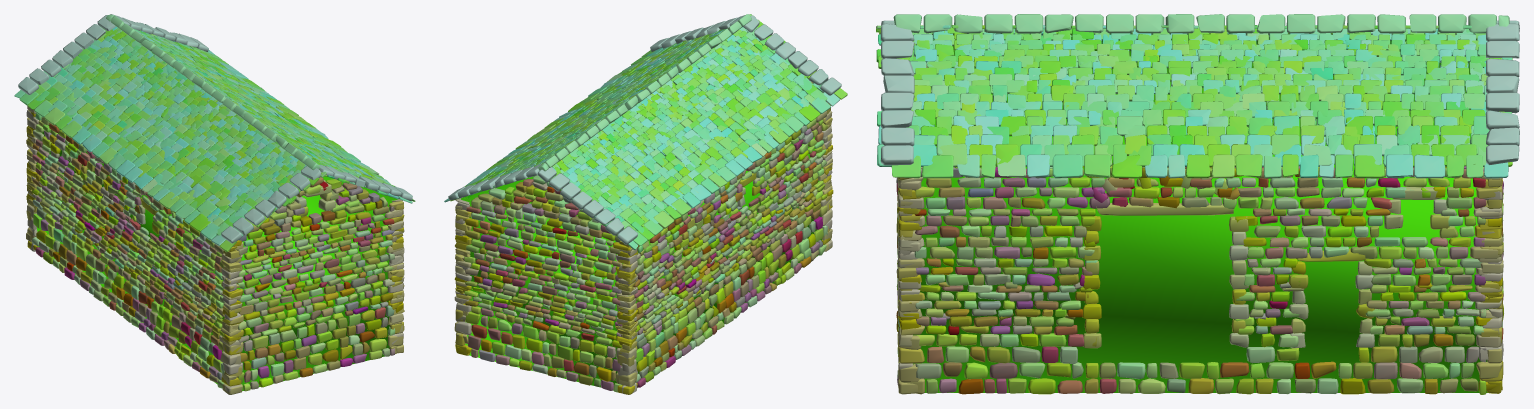
File: SM_Barn_12.glb
3 renders of one model, left to right at view 1: azimuth 30°, elevation 25°; view 2: azimuth 150°, elevation 25°; view 3: azimuth 270°, elevation 25°, orthographic. The views are drawn at different scales.
Visible parts, largest first — view 1: SM_Barn_12; view 2: SM_Barn_12; view 3: SM_Barn_12.
Part boxes in pixels (box(x1,y1,x2,y2)): SM_Barn_12: box(14, 14, 415, 394); SM_Barn_12: box(444, 14, 847, 394); SM_Barn_12: box(876, 14, 1519, 394).
Size of the model in its own units: 6.61 by 6.93 by 12.77.
